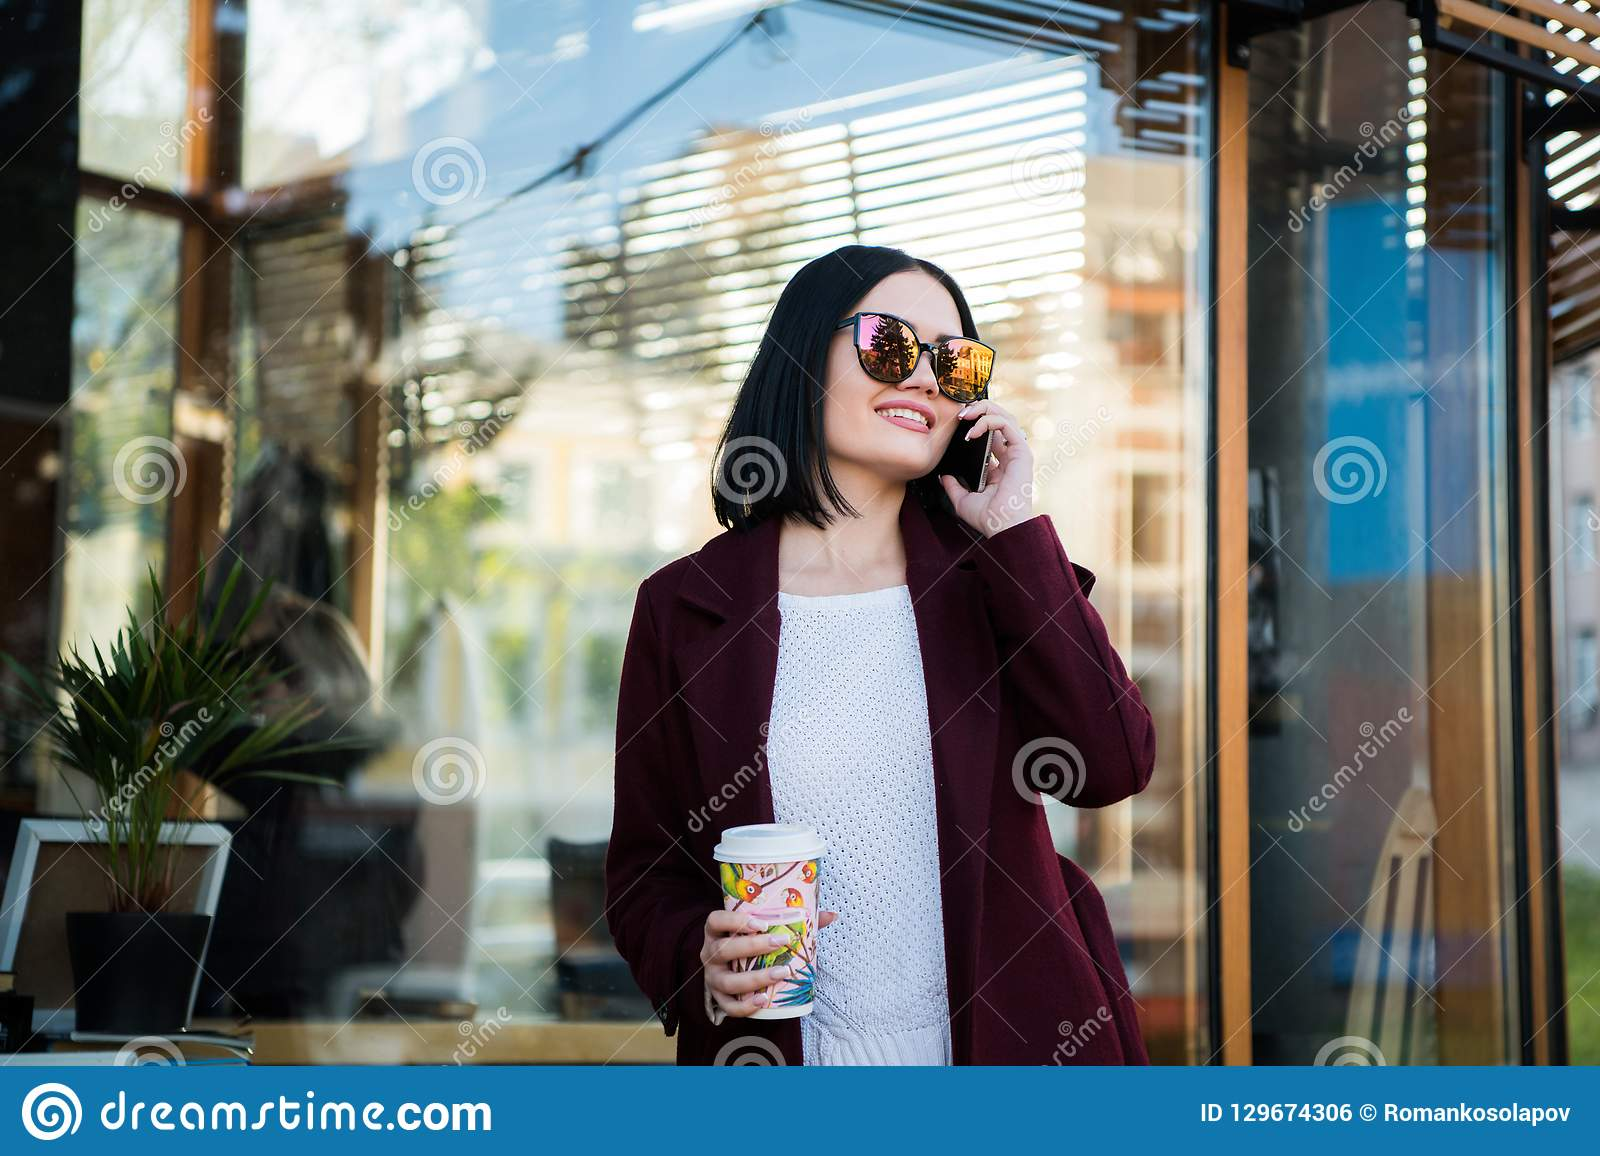phone: (935, 411, 998, 499)
talk: (837, 304, 1040, 538)
